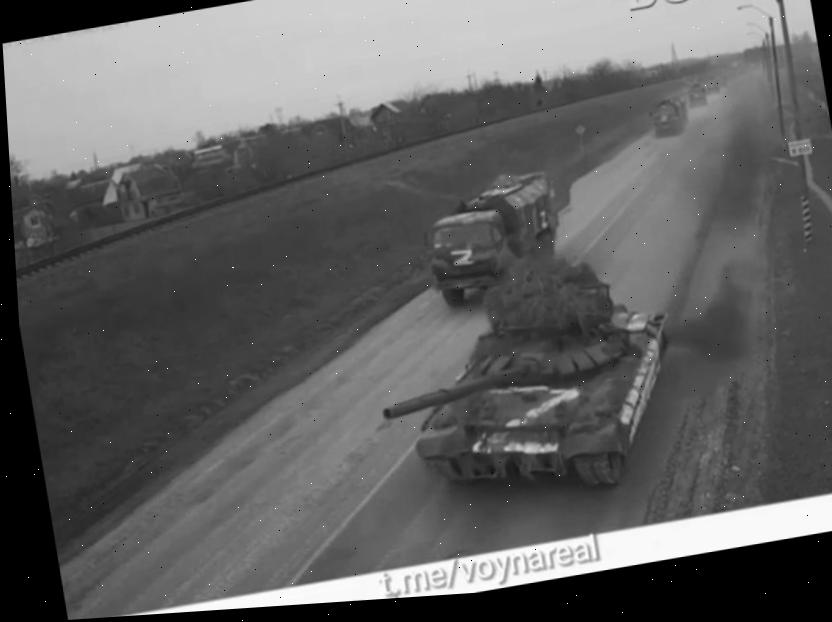tank: (358, 233, 700, 522)
truck: (418, 163, 577, 317), (647, 95, 690, 139), (683, 79, 708, 107)
